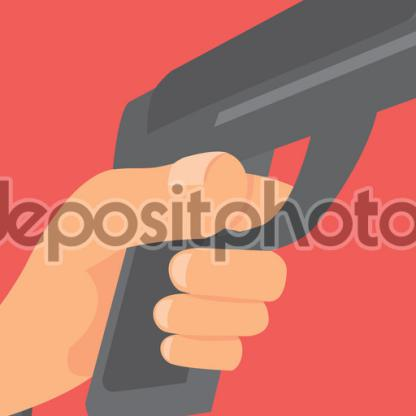gun: (63, 0, 415, 415)
